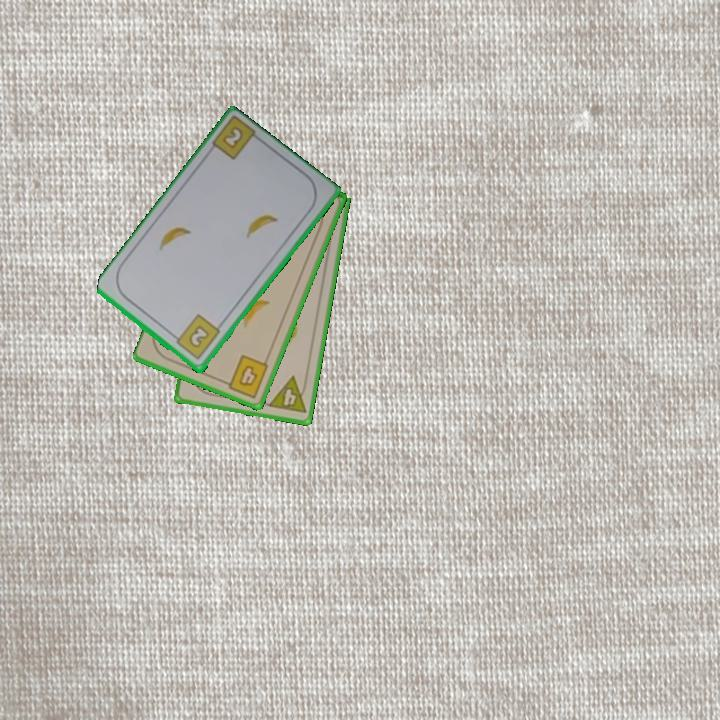2b: (169, 311, 223, 363), (219, 123, 246, 152)
4b: (219, 351, 271, 401)
4p: (264, 373, 311, 417)
